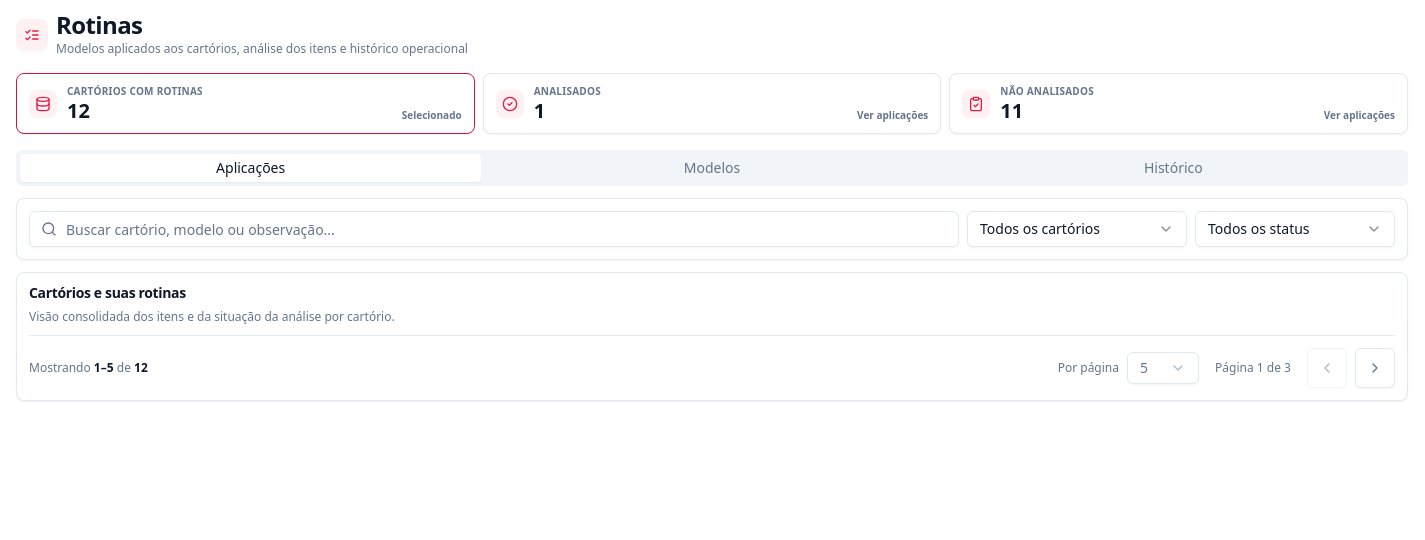
CS/CX rotinas — permissões › pagina cartórios e modelos em blocos compactos
The width and height of the screenshot is (1425, 540).
expect the element named "Mostrando 1 a 5 de 12 cartórios" is shown: met, box [29,360,148,376]
Click the button named "próxima página de cartórios": (1375,368) [1355,348,1395,388]
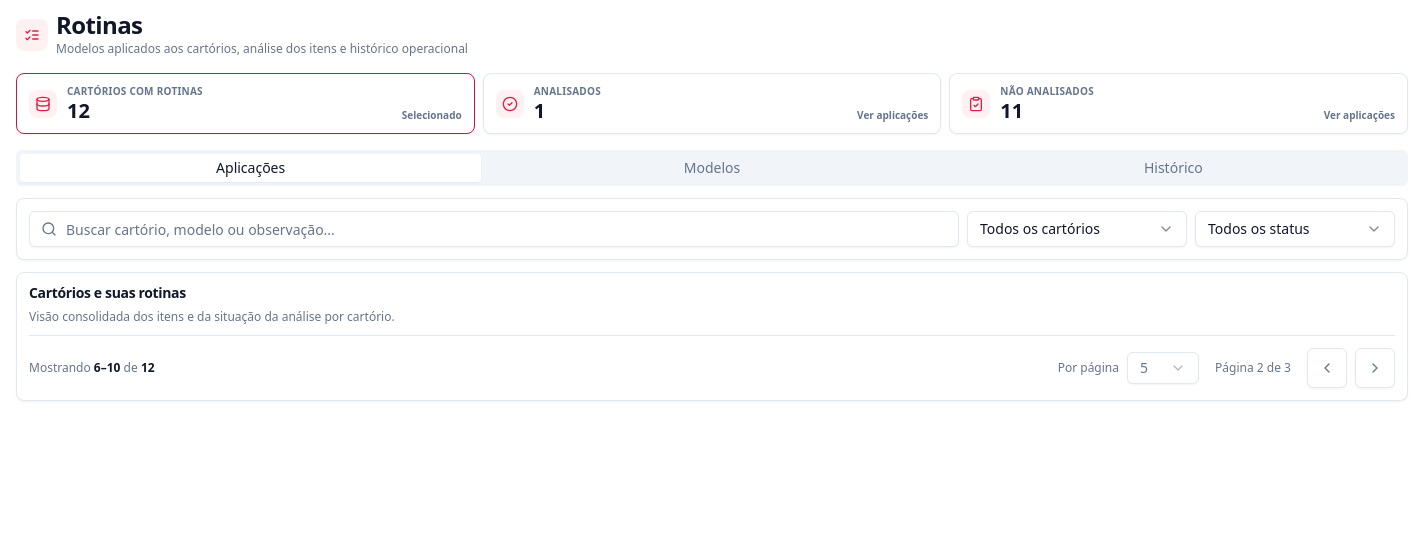
Press the mouse on the tab "Modelos": (712,168) [481,154,943,182]
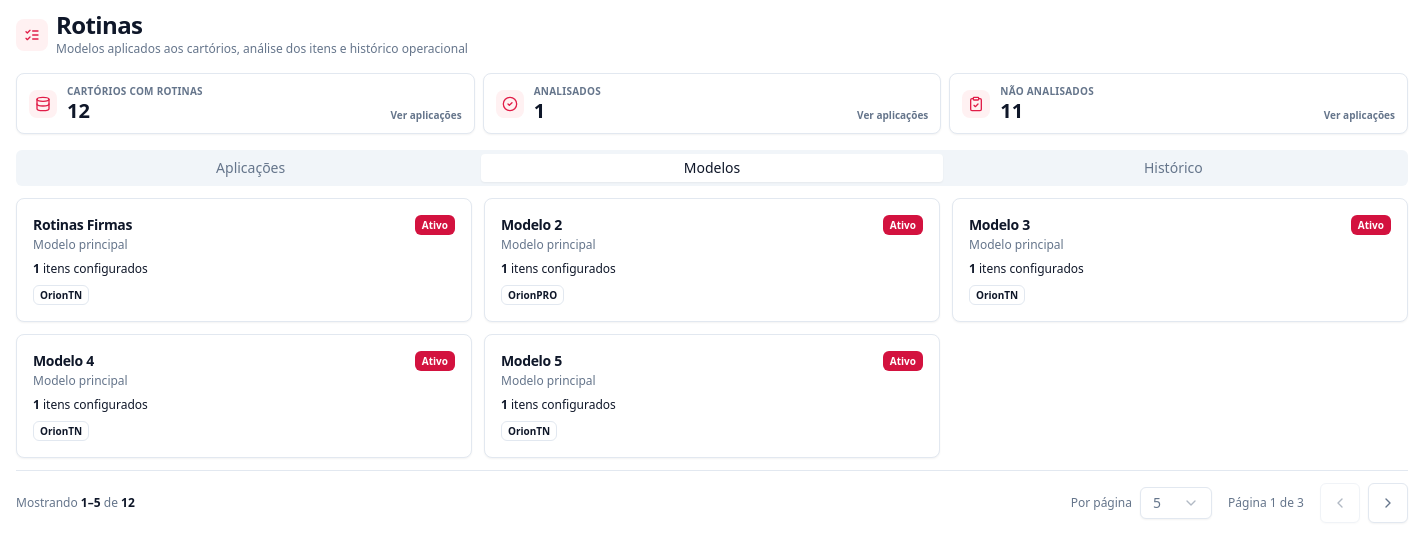
expect the text "Modelo 6" is not shown: met
expect the element named "Mostrando 1 a 5 de 12 modelos" is shown: met, box [16,495,135,511]
Click the button named "próxima página de modelos": (1388,503) [1368,483,1408,523]
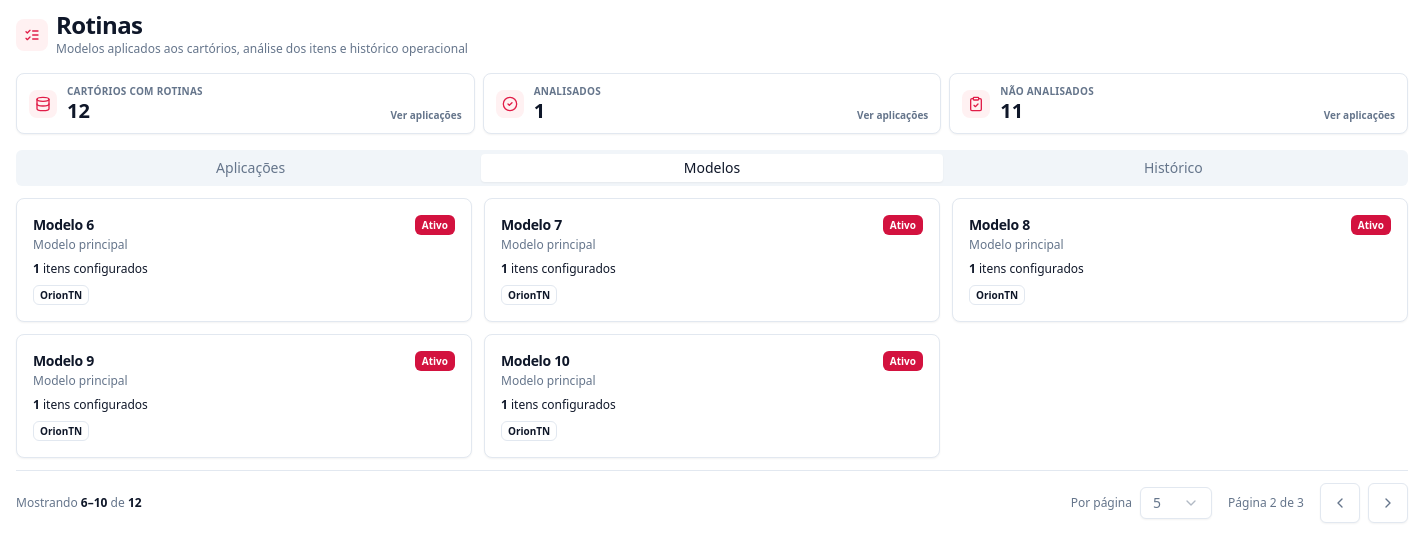
expect the heading "Modelo 6" is shown: met, box [33,215,94,234]
